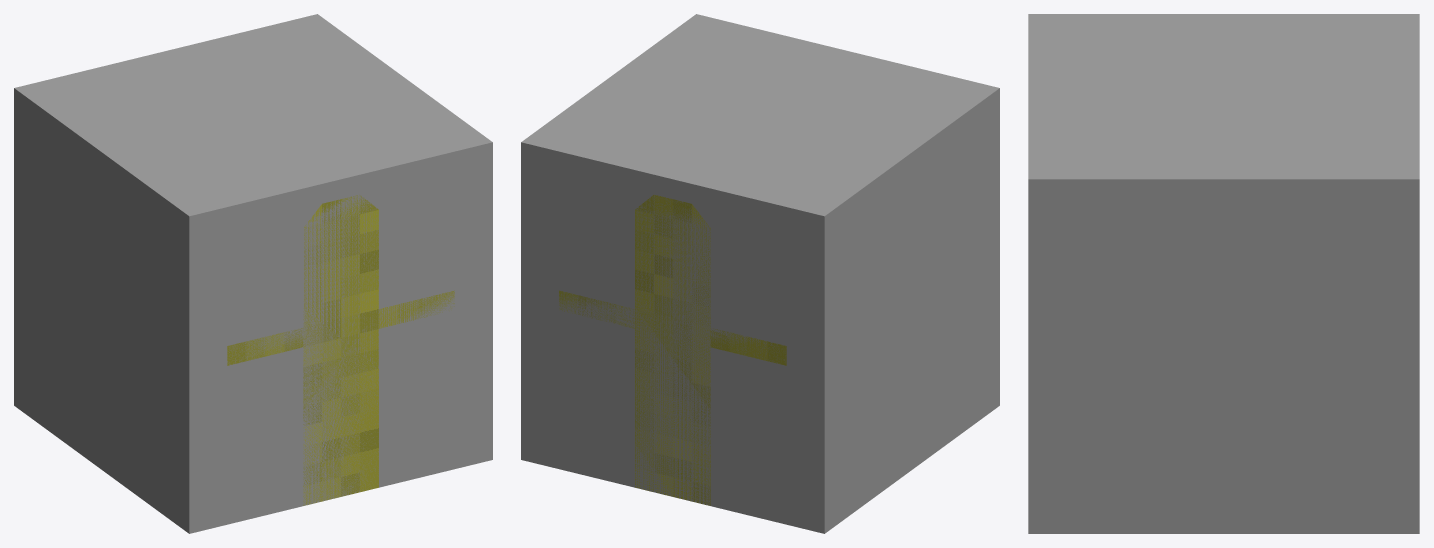
File: arcfurnace.obj
3 renders of one model, left to right at view 1: azimuth 30°, elevation 25°; view 2: azimuth 150°, elevation 25°; view 3: azimuth 270°, elevation 25°, orthographic. The views are drawn at different scales.
Parts seen in each view (by area): view 1: Minecraft_Block_Cube, main; view 2: Minecraft_Block_Cube, main; view 3: Minecraft_Block_Cube.
Boxes of the visible parts, <box> form: Minecraft_Block_Cube: <box>14,14,492,533</box>; main: <box>227,195,454,505</box>; Minecraft_Block_Cube: <box>521,14,999,533</box>; main: <box>559,195,786,505</box>; Minecraft_Block_Cube: <box>1028,14,1419,533</box>.
Bounding box in the file's own units: 1 × 1 × 1.
Materials: 2 (1 with a texture image).
